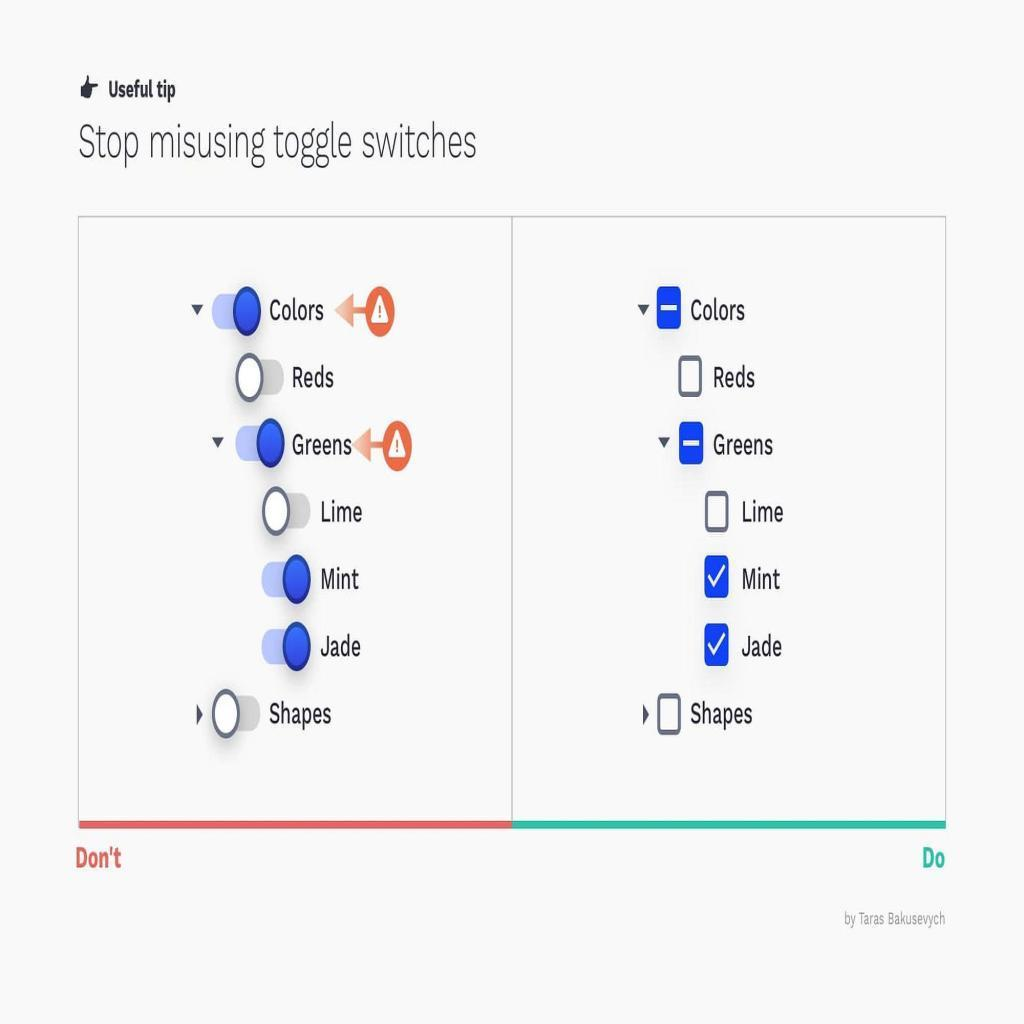checkbox: (704, 623, 730, 669), (703, 557, 730, 599), (658, 287, 682, 328), (680, 356, 704, 396), (658, 695, 681, 735), (681, 424, 704, 464), (707, 494, 730, 533)
switch: (208, 281, 266, 340), (261, 620, 317, 678), (260, 483, 315, 538), (257, 553, 315, 604), (213, 690, 264, 748), (236, 351, 288, 402), (238, 420, 288, 468)
